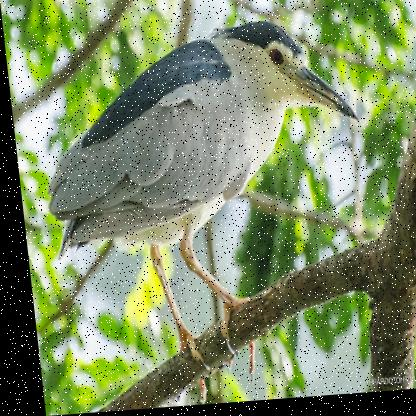Burung: (31, 22, 380, 404)
